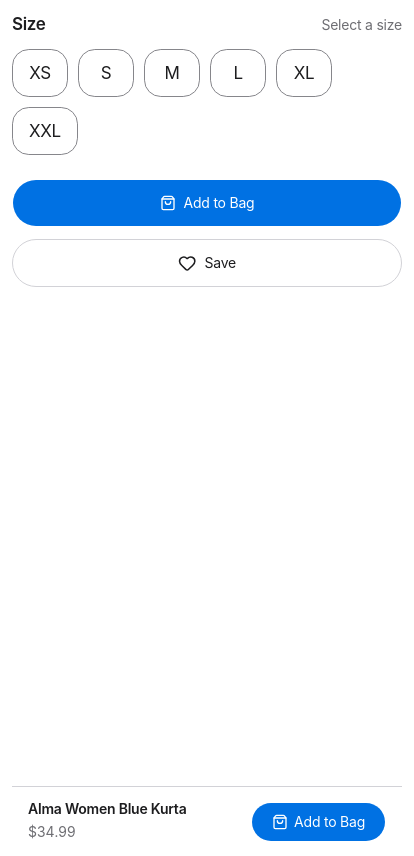
Test case: PurchasePanel › sticky bar › asks for a size from the bar too
Click the button with aria-label "Add Alma Women Blue Kurta to Bag".
click(319, 822)  # box [251,802,386,842]
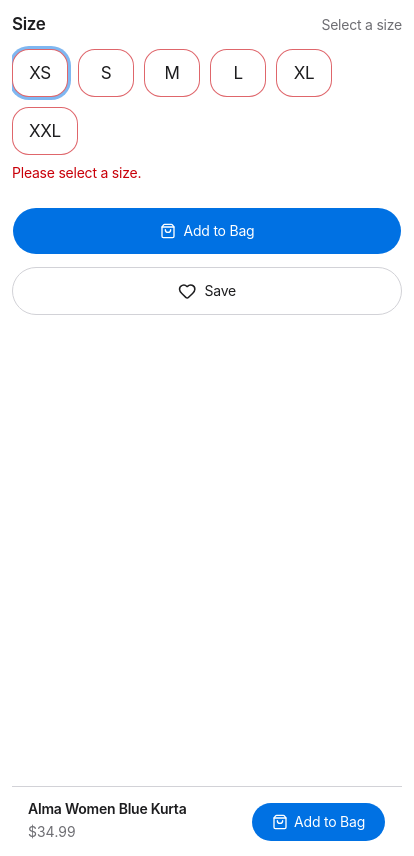
Now the message shows "Please select a size", box [12,164,141,181]
